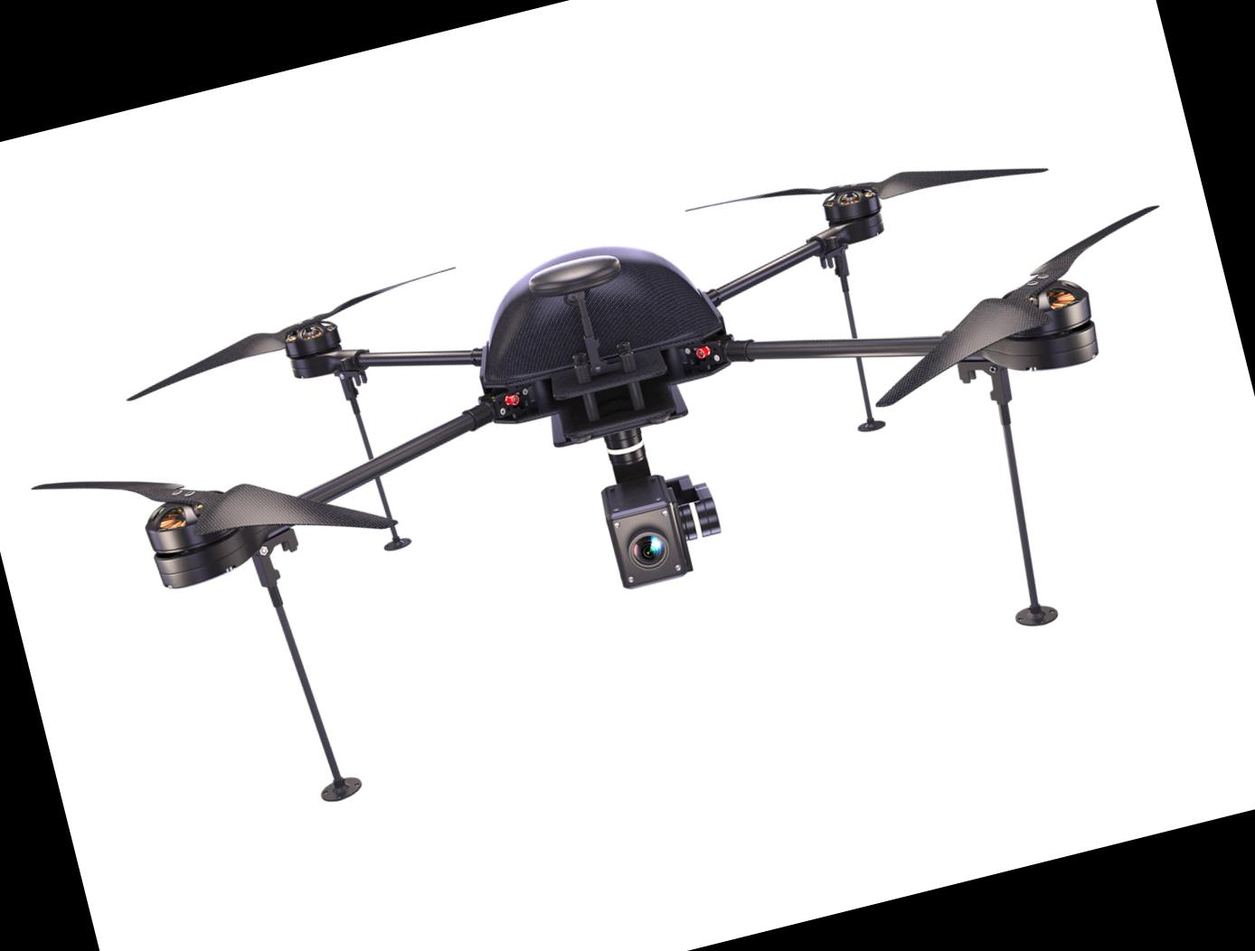drone: (0, 71, 1220, 780)
